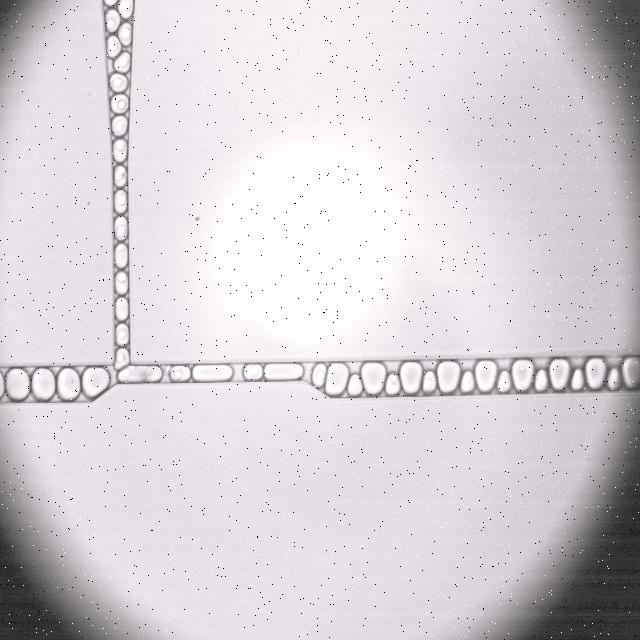L: (110, 73, 128, 92), (111, 94, 129, 113), (111, 116, 128, 135), (115, 297, 129, 320), (312, 364, 326, 387), (114, 52, 130, 72), (243, 364, 263, 380), (115, 244, 128, 268), (113, 139, 127, 161), (171, 365, 190, 381), (106, 9, 119, 32), (114, 190, 127, 213), (115, 271, 128, 294), (116, 323, 129, 346), (107, 36, 121, 57), (348, 375, 362, 396), (386, 374, 400, 395), (115, 216, 127, 240), (115, 349, 129, 369), (460, 372, 474, 392), (497, 371, 511, 391), (114, 166, 127, 187), (423, 371, 436, 392), (534, 370, 547, 391), (571, 368, 584, 389), (607, 368, 620, 389), (118, 0, 133, 18), (119, 23, 131, 45), (104, 0, 117, 5)
S: (361, 362, 386, 395), (83, 367, 109, 398), (325, 363, 349, 395), (57, 368, 80, 400), (6, 368, 29, 400), (118, 365, 160, 382), (400, 362, 423, 393), (437, 361, 460, 392), (32, 369, 55, 400), (475, 361, 497, 392), (512, 360, 534, 391), (549, 358, 570, 390), (585, 358, 606, 389), (193, 365, 232, 381), (264, 364, 303, 380), (622, 357, 640, 388)
